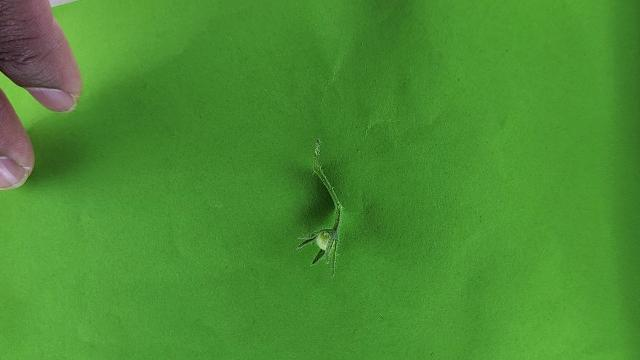Fruit Bud: (295, 226, 338, 267)
